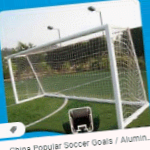goals: (5, 24, 149, 127)
